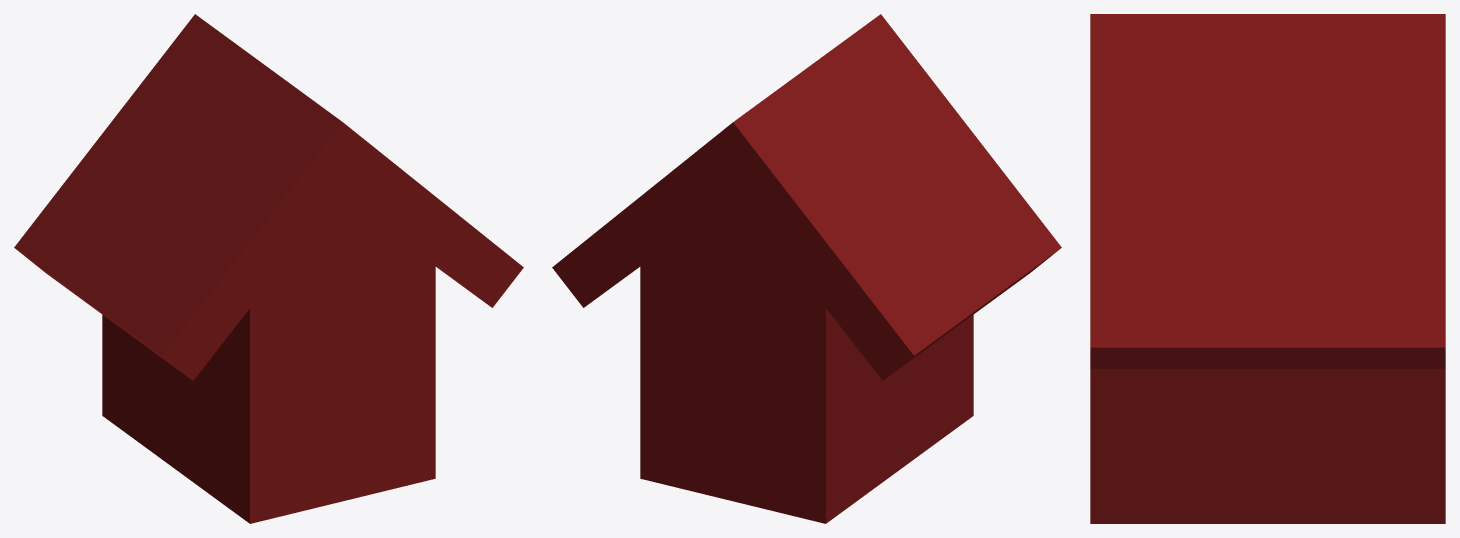
Rendered from maison5.glb.
3 views of the same model, side by side, from view 1: azimuth 30°, elevation 25°; view 2: azimuth 150°, elevation 25°; view 3: azimuth 270°, elevation 25° (orthographic). The views are drawn at different scales.
Visible parts, largest first — view 1: Cube; view 2: Cube; view 3: Cube.
Part boxes in pixels (x1,y1,x2,y2): Cube: (14,14,523,523); Cube: (552,14,1061,523); Cube: (1090,14,1445,523).
Size of the model in its own units: 0.6967 by 0.6971 by 0.4926.
